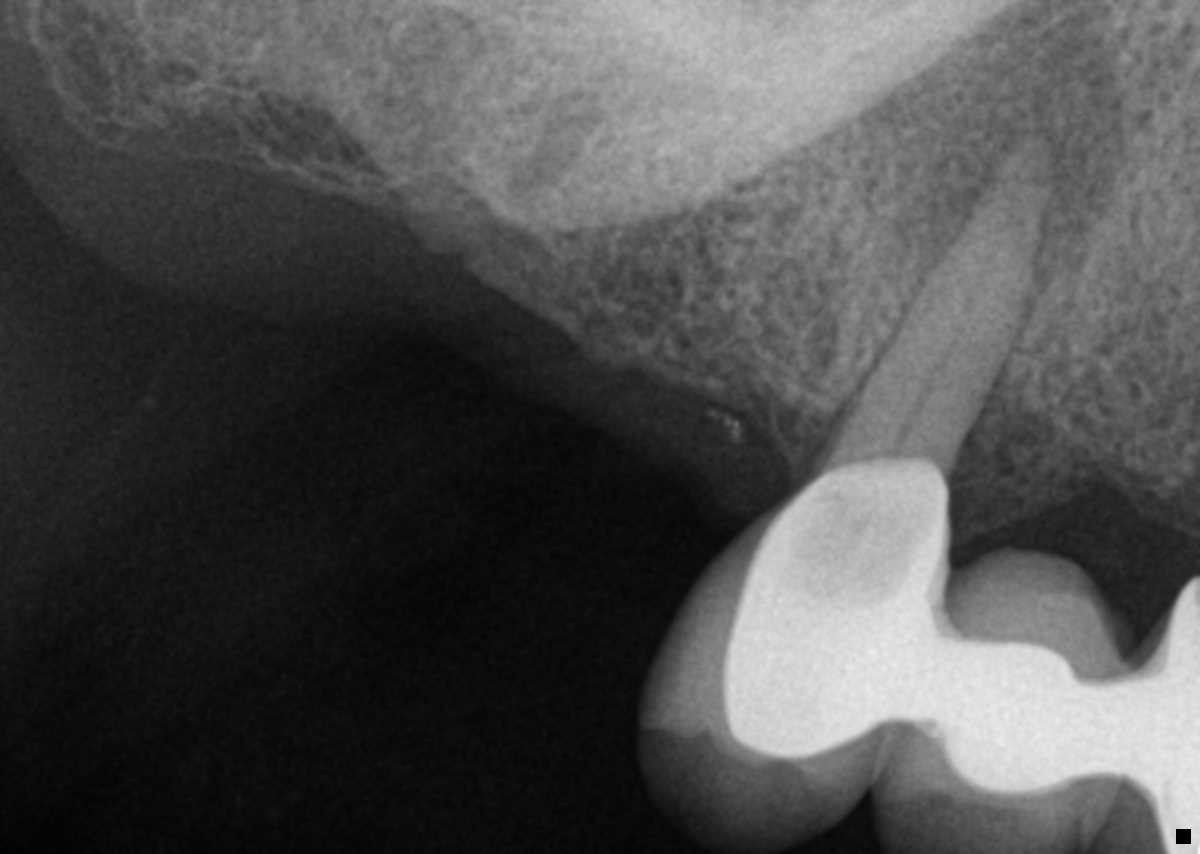Apical Lesion: (861, 10, 1130, 271)
Main Canal: (883, 214, 1014, 458)
Main Root: (822, 136, 1054, 467)
